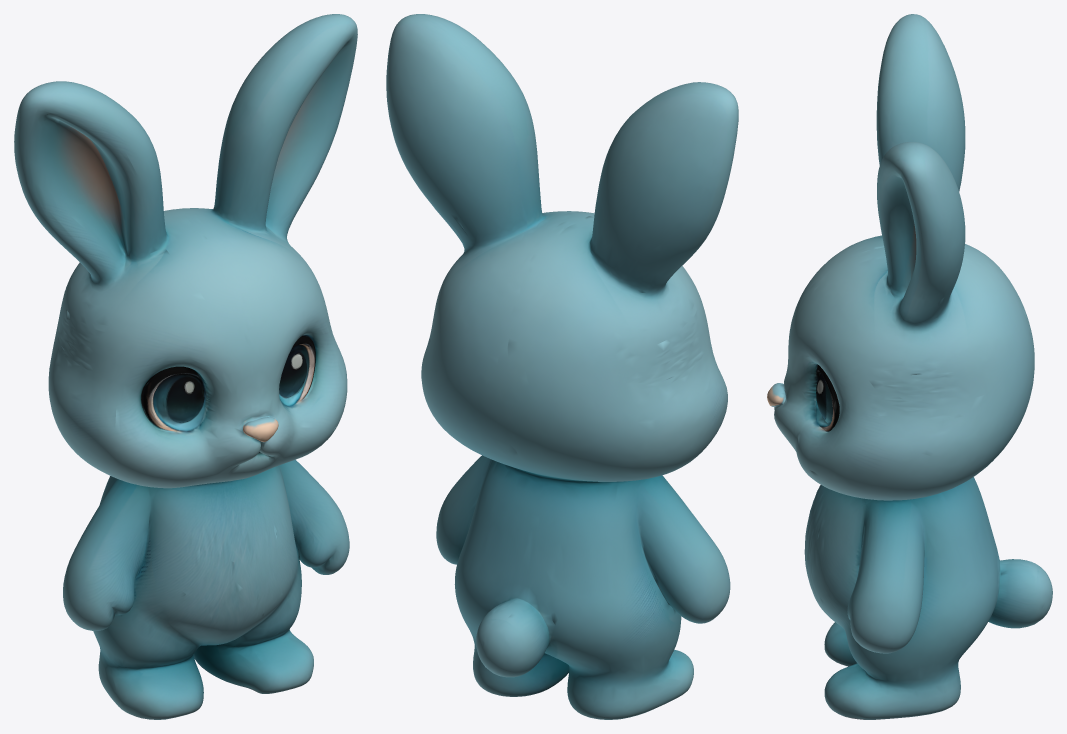
The model's file is changfeng_adult.glb.
The picture shows the model from 3 angles, left to right: view 1: azimuth 30°, elevation 25°; view 2: azimuth 150°, elevation 25°; view 3: azimuth 270°, elevation 25°; orthographic projection. The views are drawn at different scales.
Parts seen in each view (by area): view 1: node_0; view 2: node_0; view 3: node_0.
Boxes of the visible parts, x1,y1,x2,y2 form: node_0: [14, 14, 357, 719]; node_0: [386, 14, 738, 719]; node_0: [767, 14, 1052, 719].
Size of the model in its own units: 0.6046 by 1.07 by 0.4656.
1 material, 1 textured.
